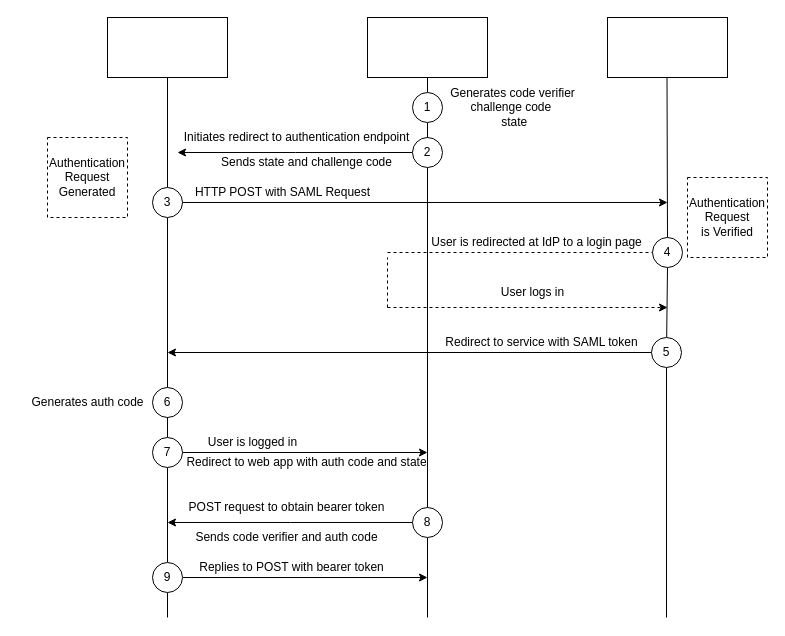
This 785x636 diagram has some shape labels left out. The box of each missing label's shape, as (x1, y1, x2, y2) in pixels:
Backend: (106, 16, 228, 78)
Identity Provider: (606, 16, 728, 78)
Web App: (366, 16, 488, 78)
